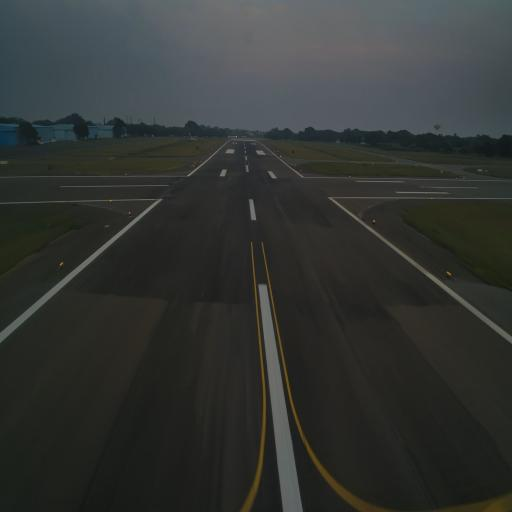on: (57, 258, 65, 271), (445, 268, 453, 280), (127, 208, 132, 218), (108, 198, 114, 206), (371, 217, 376, 225)
